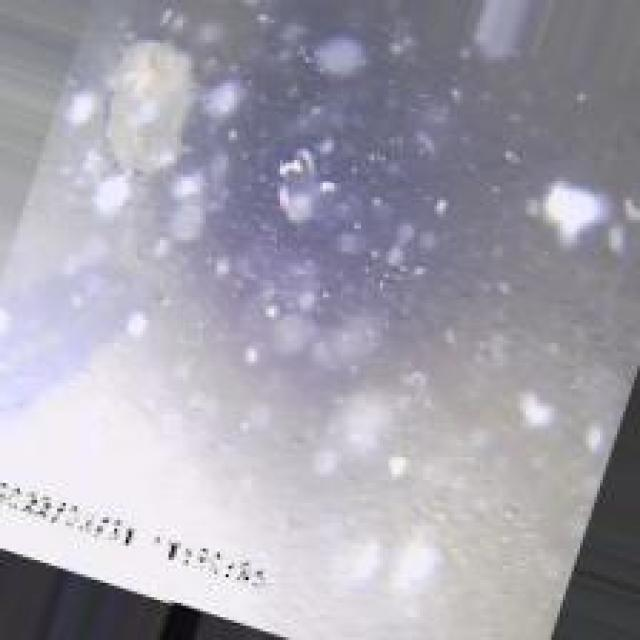stone: (97, 31, 192, 163)
